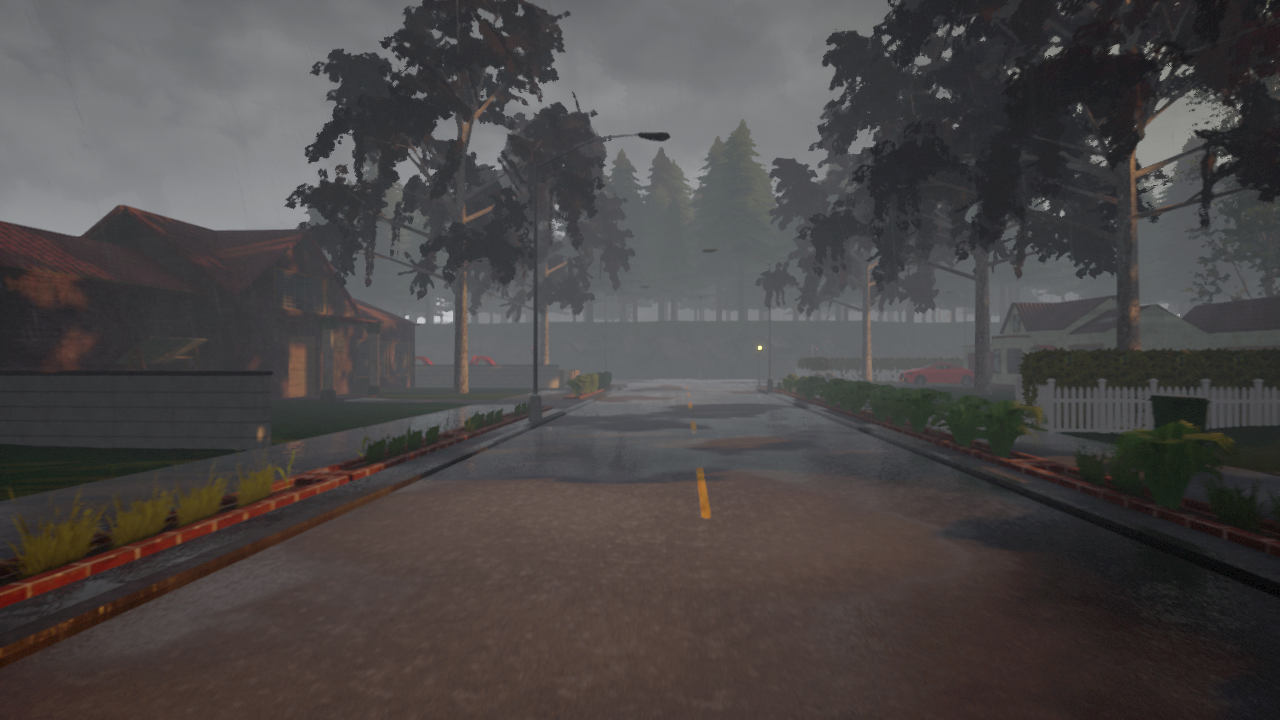yellow: (756, 339, 764, 358)
